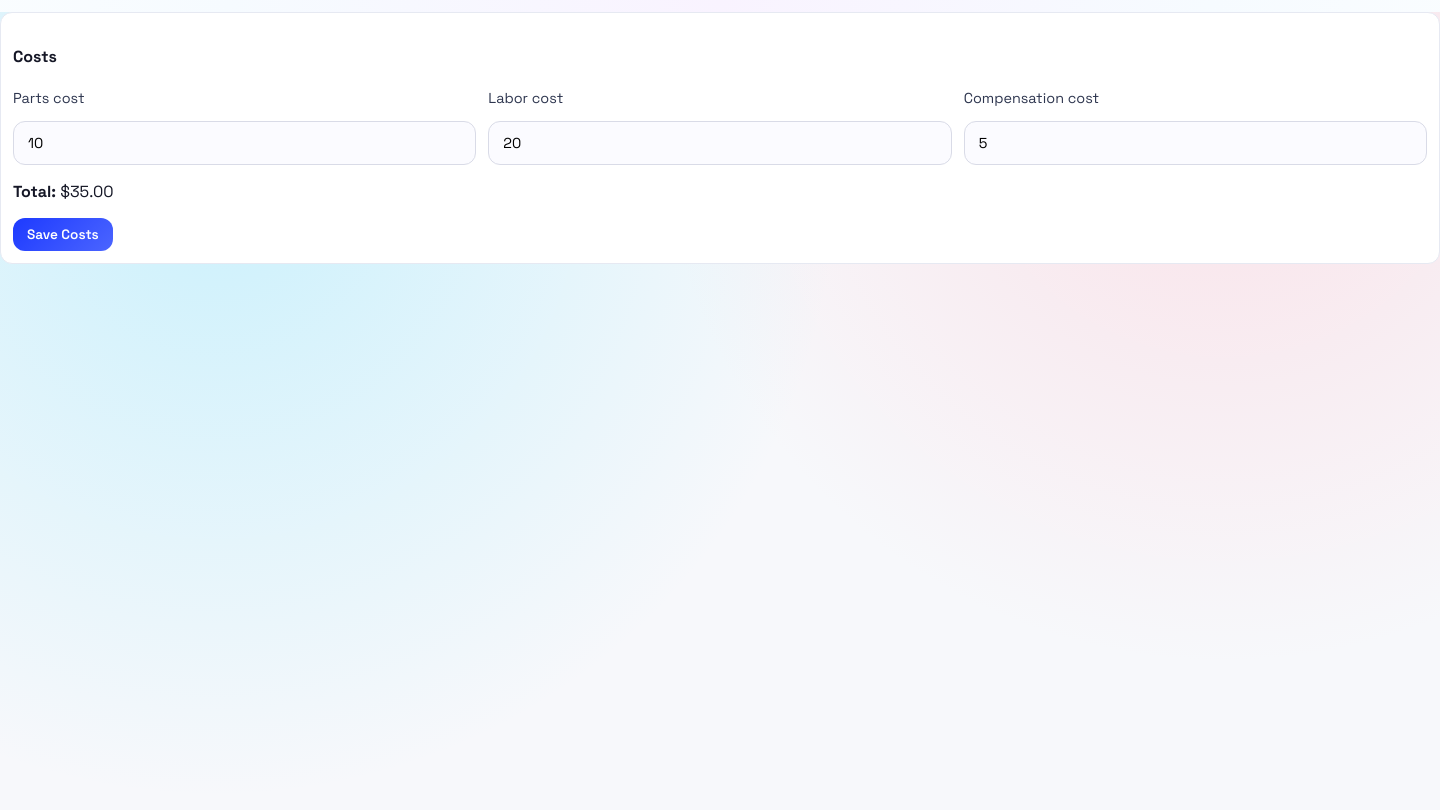
it: CostCard › auto-calculates total and rejects negative input
Expected: the text "Total: $35.00" is shown, [13,180,114,202]
Step 1. Replace the text in the field labelled "Parts cost" with "-3" → (245, 142), box [13,120,476,164]
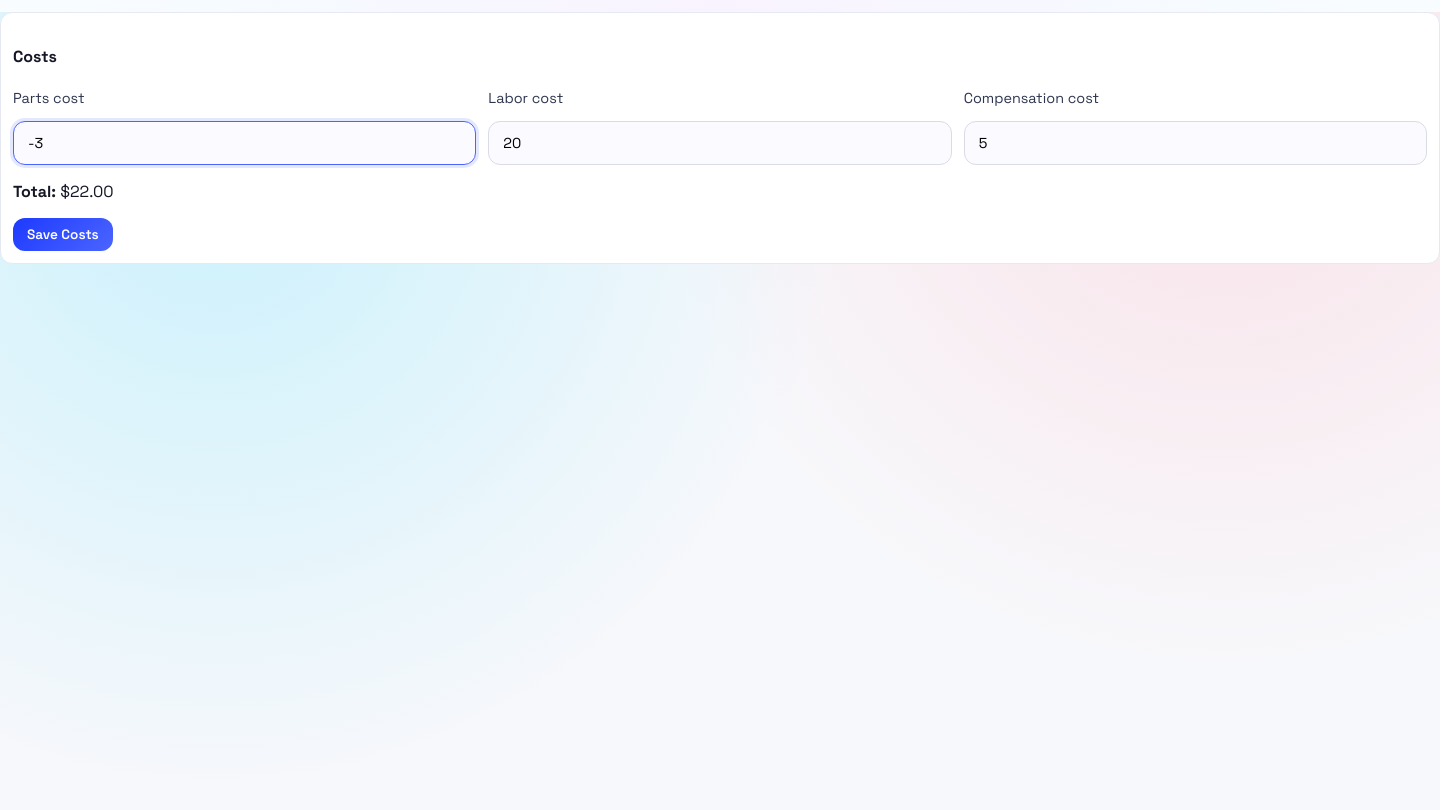
Step 2. Click the button "Save Costs" → (63, 234), box [13,218,113,250]
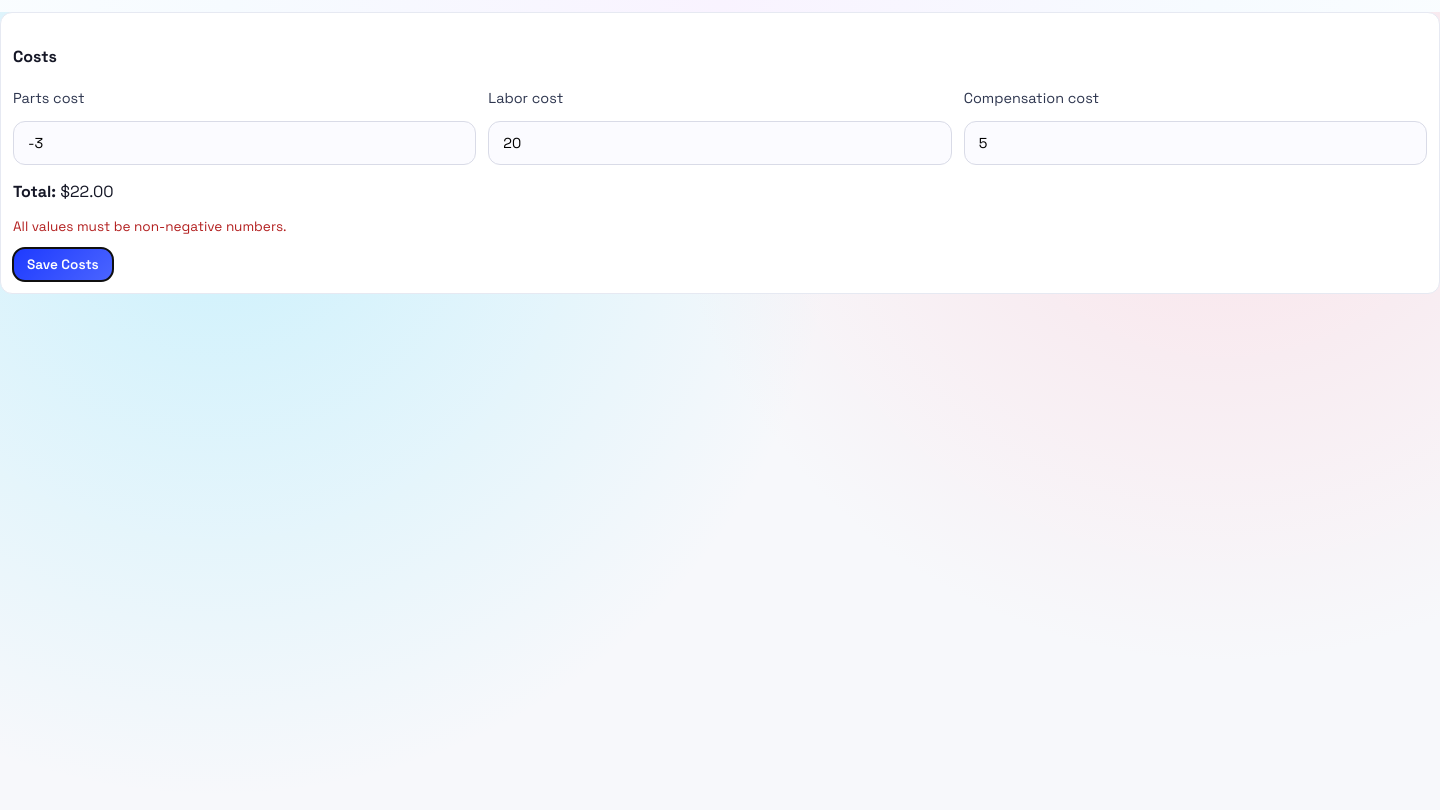
Expected: the text "All values must be non-negative numbers." is shown, [13,218,286,234]
